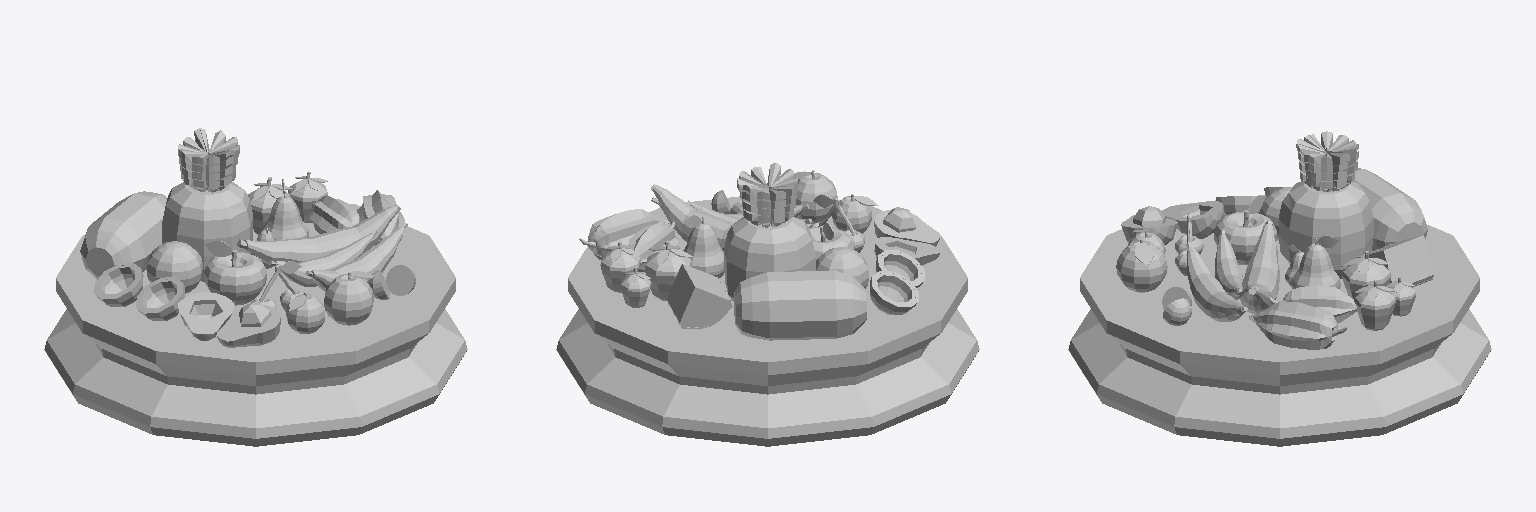
Rendered from fruits.obj.
3 renders of one model, left to right at view 1: azimuth 30°, elevation 25°; view 2: azimuth 150°, elevation 25°; view 3: azimuth 270°, elevation 25°, orthographic.
Visible parts, largest first — view 1: Base_Circle.005, Base.001_Circle.007, PineApple1_Cube.000, Banana_top_001_Cylinder.007, WaterMelon0_Cylinder.001, Apple_Leaf_Cube.001, Cherry_Leaf_001_Cube.008, Avocado_Seed_Sphere.008, coco0_Sphere.016, Avocado1_Sphere.014, coco1_Sphere.024, coco3_Sphere.019 (+8 smaller); view 2: Base_Circle.005, Base.001_Circle.007, WaterMelon0_Cylinder.001, PineApple1_Cube.000, WaterMelon3_Cone.002, Banana_top_001_Cylinder.007, StarFruitB_Cube.015, coco1_Sphere.024, Pear_Leaf_Cube.002, Avocado_Seed_Sphere.008, StrawberryB_002_Sphere.028, Cherry_Leaf_001_Cube.008 (+9 smaller); view 3: Base_Circle.005, Base.001_Circle.007, PineApple1_Cube.000, Banana_top_001_Cylinder.007, StarFruitB_Cube.015, WaterMelon0_Cylinder.001, Cherry_Leaf_001_Cube.008, WaterMelon3_Cone.002, Apple_Leaf_Cube.001, Pear_Leaf_Cube.002, StarFruitB2_Cube.014, StrawberryB_001_Sphere.027 (+7 smaller).
Boxes of the visible parts, x1,y1,x2,y2 form: Base_Circle.005: [44, 279, 467, 446]; Base.001_Circle.007: [56, 194, 455, 361]; PineApple1_Cube.000: [162, 128, 252, 281]; Banana_top_001_Cylinder.007: [237, 204, 407, 291]; WaterMelon0_Cylinder.001: [80, 191, 166, 279]; Apple_Leaf_Cube.001: [204, 241, 266, 305]; Cherry_Leaf_001_Cube.008: [324, 271, 374, 325]; Avocado_Seed_Sphere.008: [217, 302, 280, 347]; coco0_Sphere.016: [147, 241, 202, 293]; Avocado1_Sphere.014: [178, 292, 234, 340]; coco1_Sphere.024: [94, 263, 143, 306]; coco3_Sphere.019: [136, 277, 184, 320]; Base_Circle.005: [556, 279, 979, 446]; Base.001_Circle.007: [568, 196, 967, 361]; WaterMelon0_Cylinder.001: [734, 270, 866, 340]; PineApple1_Cube.000: [724, 163, 815, 301]; WaterMelon3_Cone.002: [667, 264, 732, 328]; Banana_top_001_Cylinder.007: [651, 184, 811, 250]; StarFruitB_Cube.015: [579, 209, 669, 259]; coco1_Sphere.024: [870, 271, 918, 314]; Pear_Leaf_Cube.002: [683, 215, 723, 278]; Avocado_Seed_Sphere.008: [874, 207, 940, 246]; StrawberryB_002_Sphere.028: [645, 241, 692, 300]; Cherry_Leaf_001_Cube.008: [795, 170, 837, 223]; Base_Circle.005: [1068, 279, 1491, 446]; Base.001_Circle.007: [1080, 195, 1479, 361]; PineApple1_Cube.000: [1279, 131, 1373, 278]; Banana_top_001_Cylinder.007: [1186, 221, 1279, 321]; StarFruitB_Cube.015: [1249, 301, 1346, 349]; WaterMelon0_Cylinder.001: [1353, 168, 1427, 250]; Cherry_Leaf_001_Cube.008: [1116, 239, 1167, 292]; WaterMelon3_Cone.002: [1364, 235, 1433, 287]; Apple_Leaf_Cube.001: [1214, 195, 1276, 264]; Pear_Leaf_Cube.002: [1291, 235, 1340, 288]; StarFruitB2_Cube.014: [1270, 285, 1356, 323]; StrawberryB_001_Sphere.027: [1354, 280, 1395, 330].
Size of the model in its own units: 13.12 by 7.11 by 13.12.